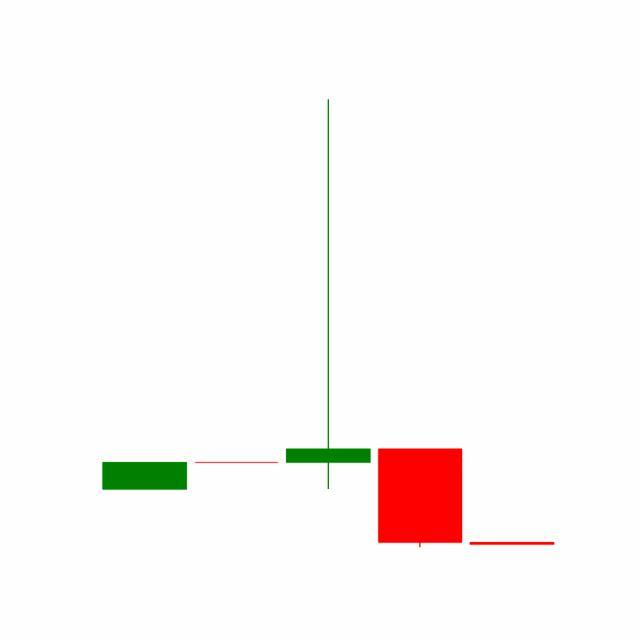Marubozu: (374, 448, 468, 550)
